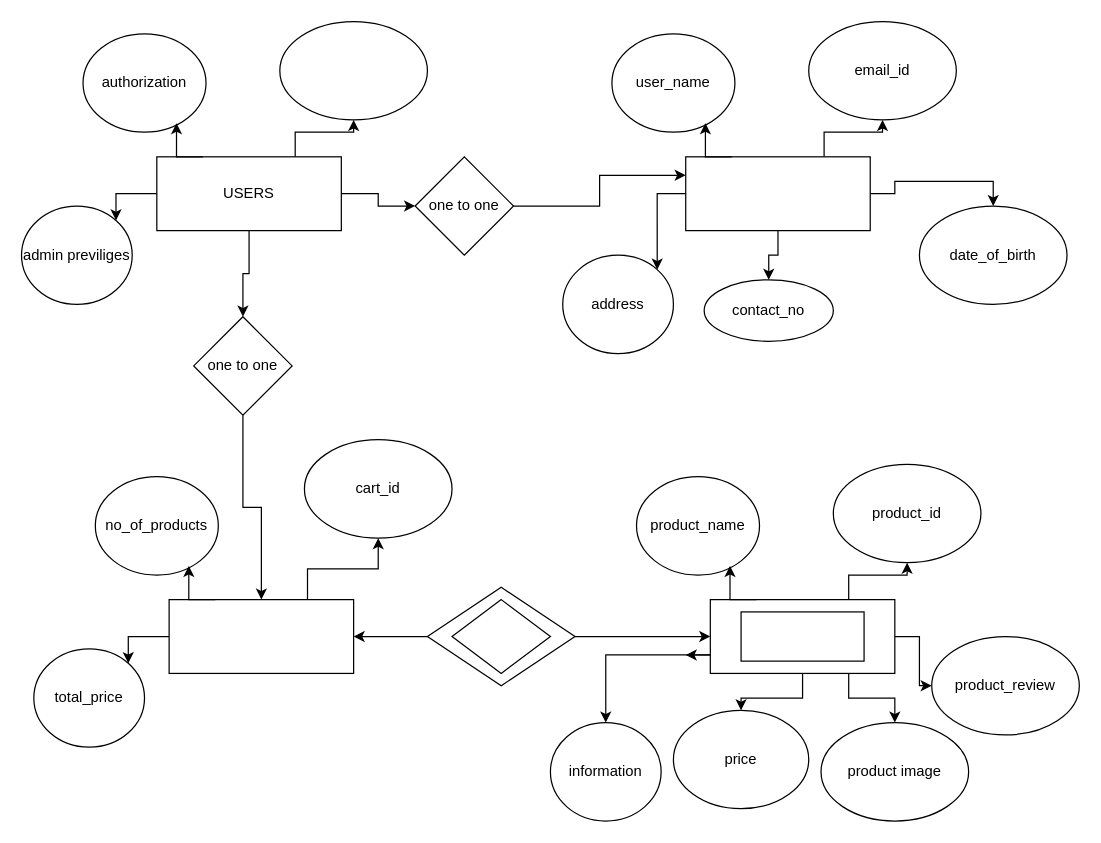
This 1101x843 diagram has some shape labels left out. Each missing label, with the centre of its shape:
"CART" belongs at (x=261, y=635).
"one to many" belongs at (x=500, y=635).
"PRODUCTS" belongs at (x=802, y=636).
"profile" belongs at (x=353, y=70).
"UPROFILE" belongs at (x=777, y=193).
